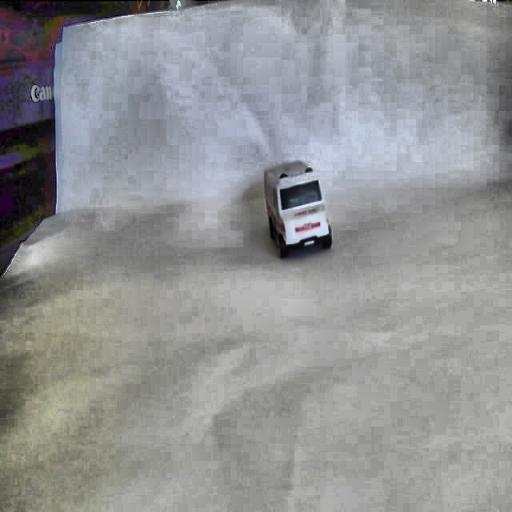ambulance: (263, 160, 332, 258)
